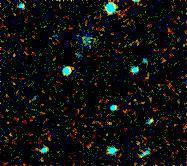star: (95, 107, 125, 137)
